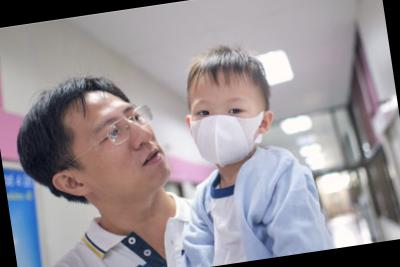with_mask: (187, 87, 273, 172)
without_mask: (76, 97, 176, 207)
